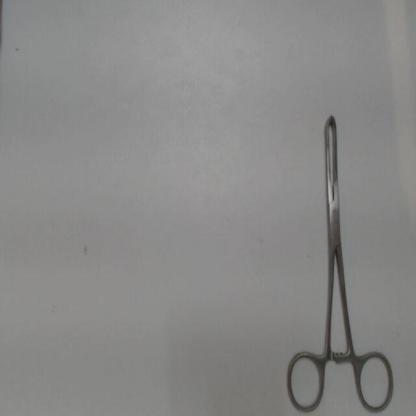Allis Tissue Forceps: (282, 101, 398, 414)
